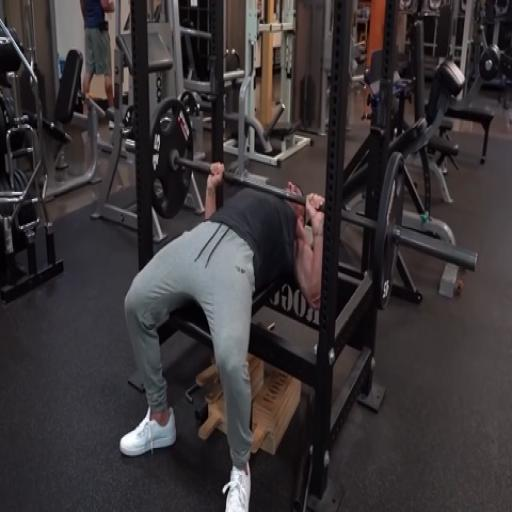exercise: (118, 160, 328, 510)
